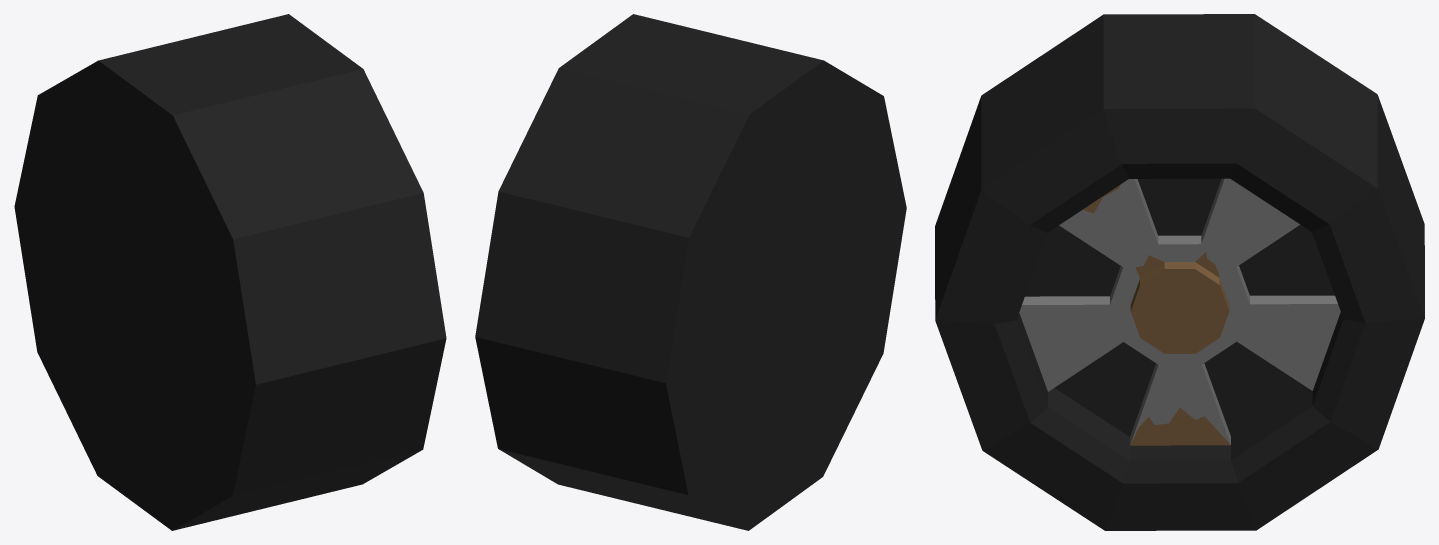
File: Wheel_02.glb
3 renders of one model, left to right at view 1: azimuth 30°, elevation 25°; view 2: azimuth 150°, elevation 25°; view 3: azimuth 270°, elevation 25°, orthographic.
Parts seen in each view (by area): view 1: Wheel_02; view 2: Wheel_02; view 3: Wheel_02.
Part boxes in pixels (left/top/right/bottom): Wheel_02: left=14, top=14, right=446, bottom=530; Wheel_02: left=475, top=14, right=906, bottom=530; Wheel_02: left=935, top=14, right=1424, bottom=530.
Size of the model in its own units: 0.2678 by 0.5364 by 0.5635.
1 material, 1 textured.
